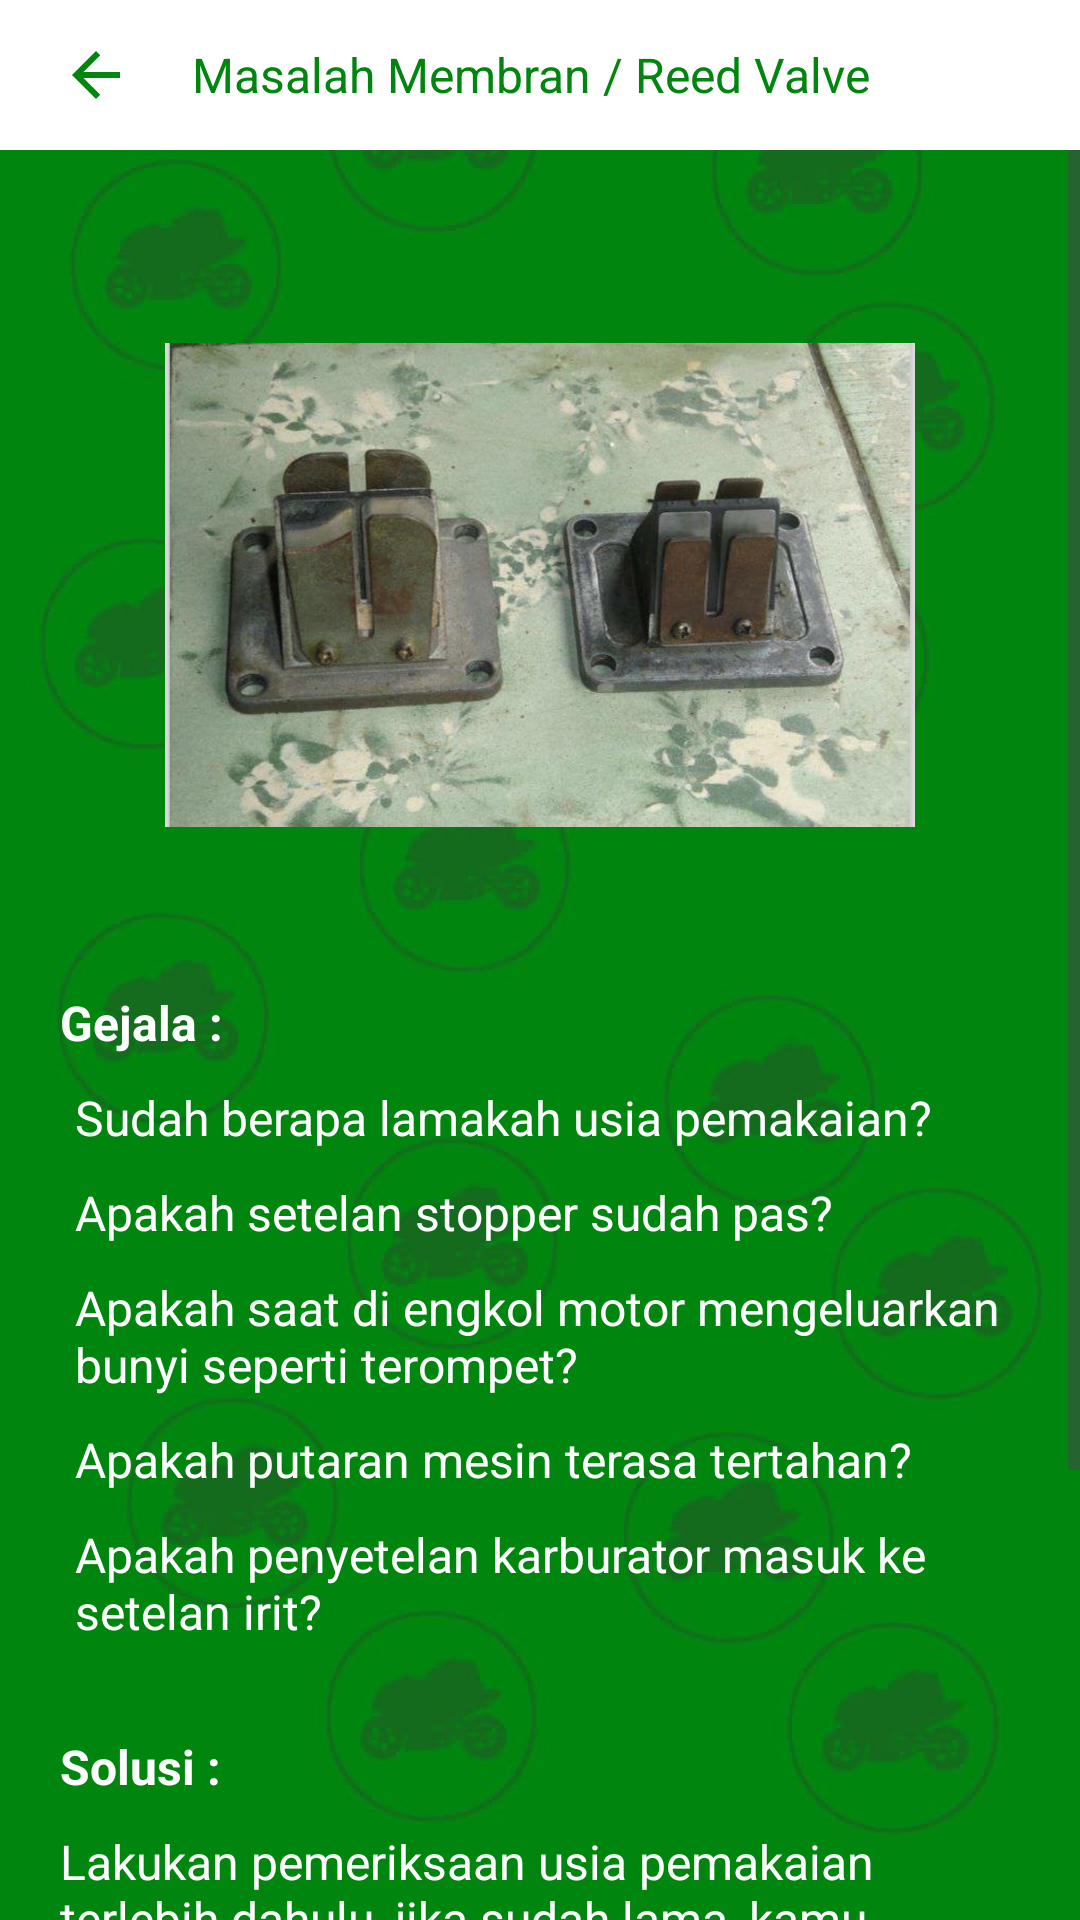

Screen size 1080 × 1920. Icon name, then its center in pixels as [x,y]:
arrow back: [96,75]
